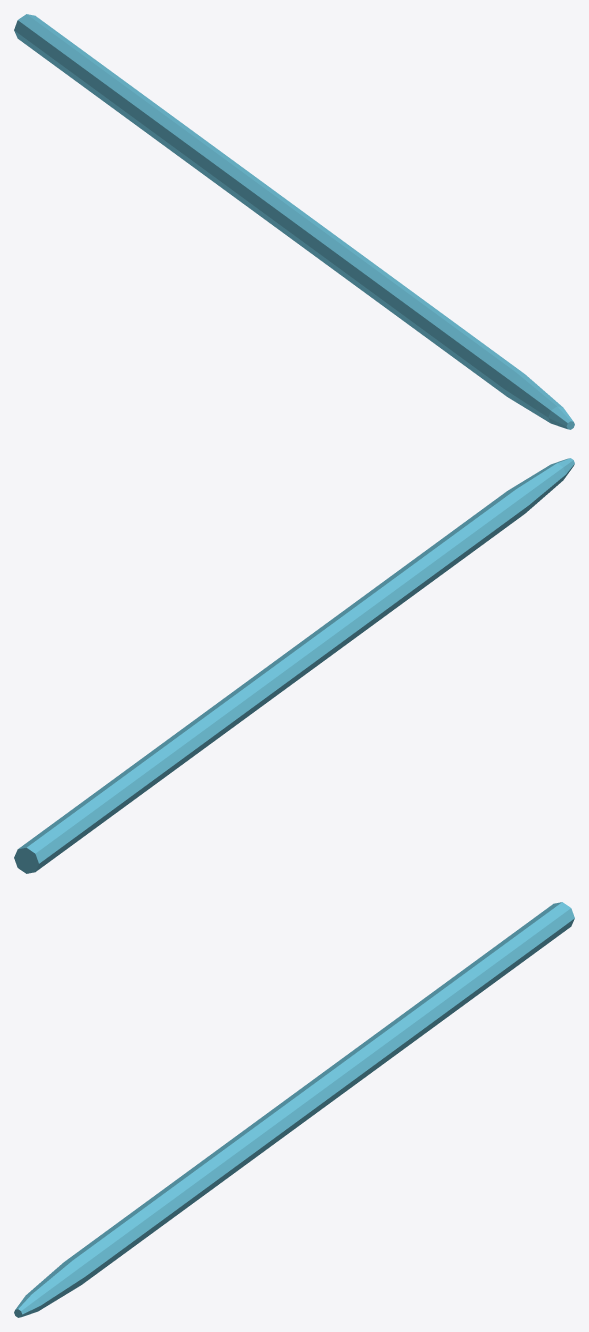
The model's file is blade-foil.glb.
3 renders of one model, top to bottom at view 1: azimuth 30°, elevation 25°; view 2: azimuth 150°, elevation 25°; view 3: azimuth 330°, elevation 25°, orthographic.
Parts seen in each view (by area): view 1: m; view 2: m; view 3: m.
Boxes of the visible parts, bbox=[...] form: m: bbox=[14, 14, 574, 429]; m: bbox=[14, 458, 574, 873]; m: bbox=[14, 902, 574, 1317].
Bounding box in the file's own units: 0.006 × 0.006 × 0.2254.
